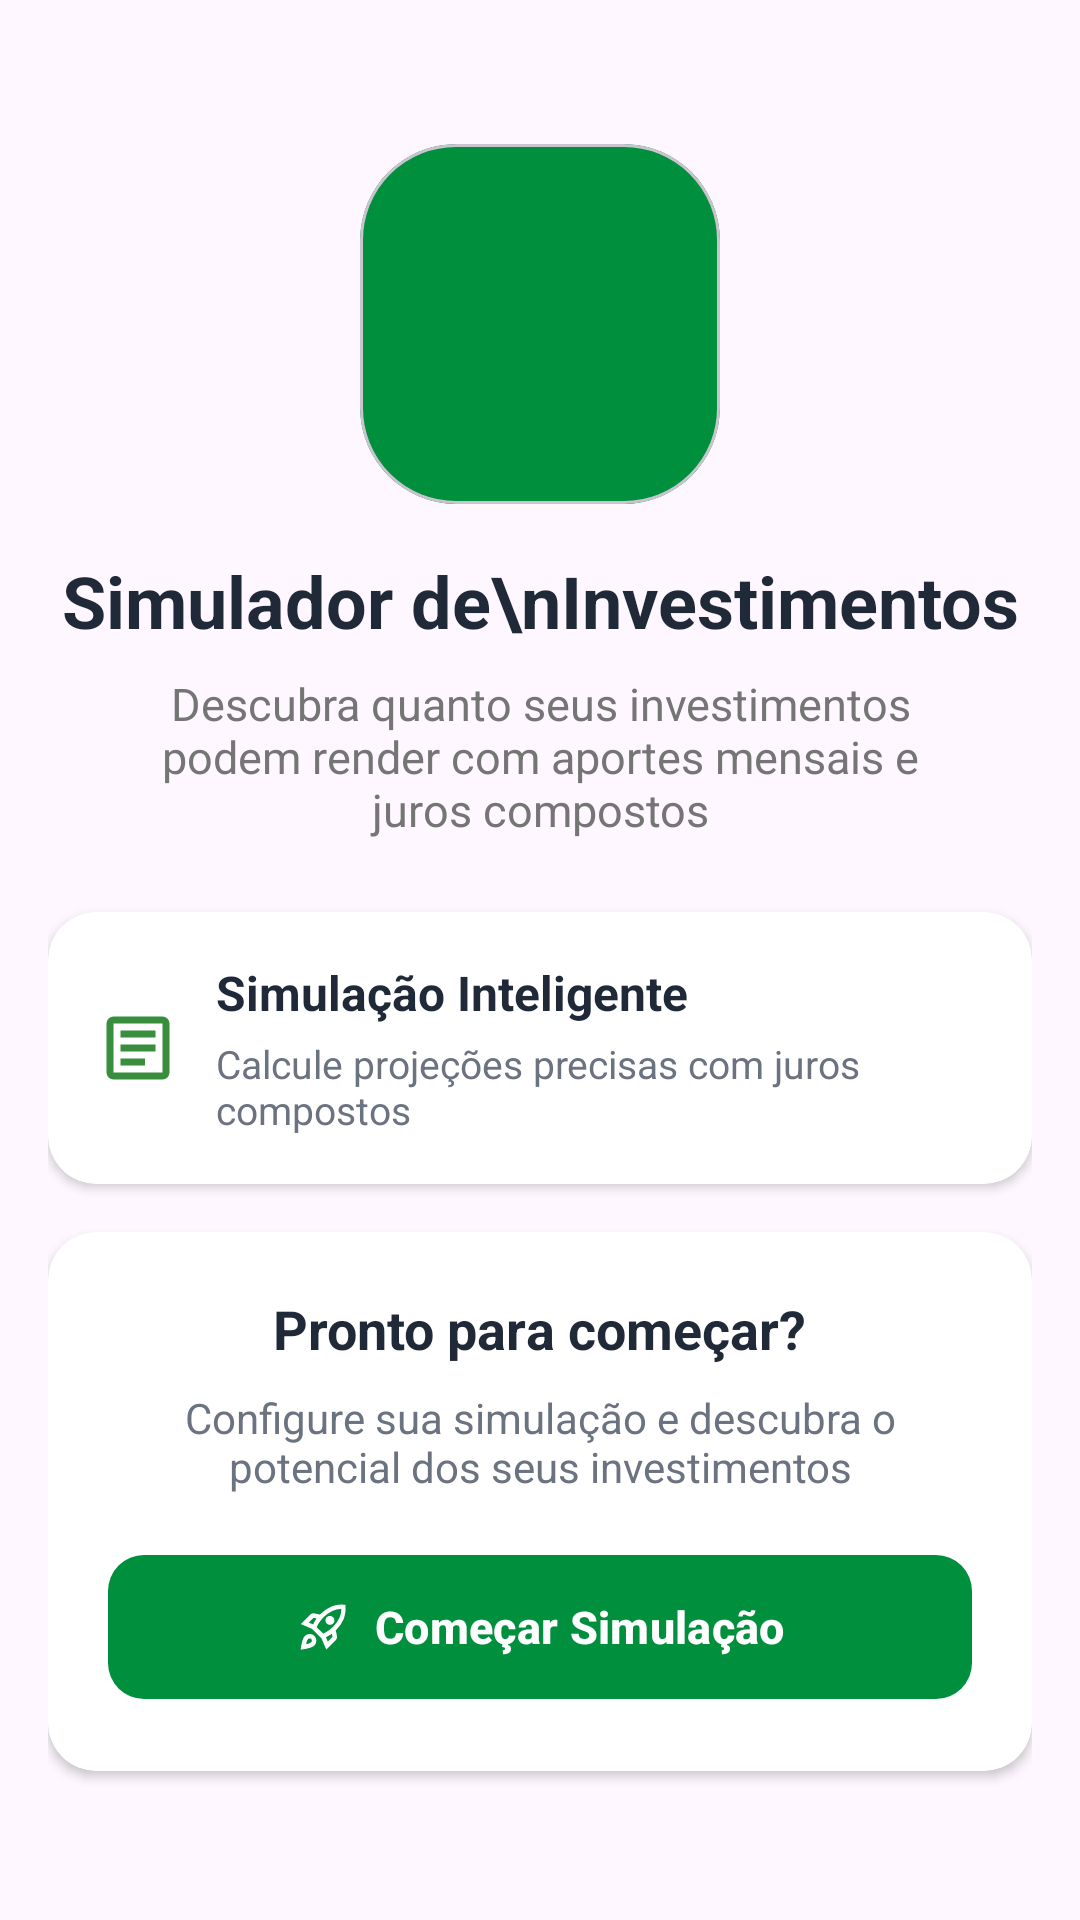

Where to tap for icons on this 1080x1920 app screen, as [x,y]:
article: [138,1048]
